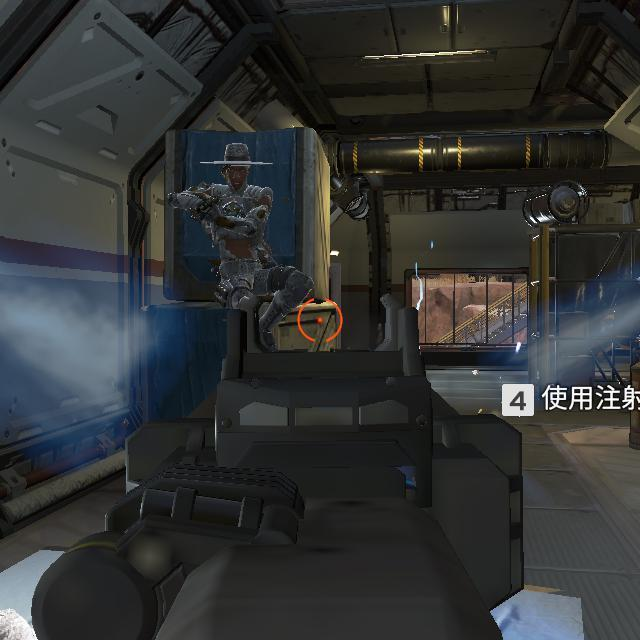avatar: (198, 140, 276, 308)
